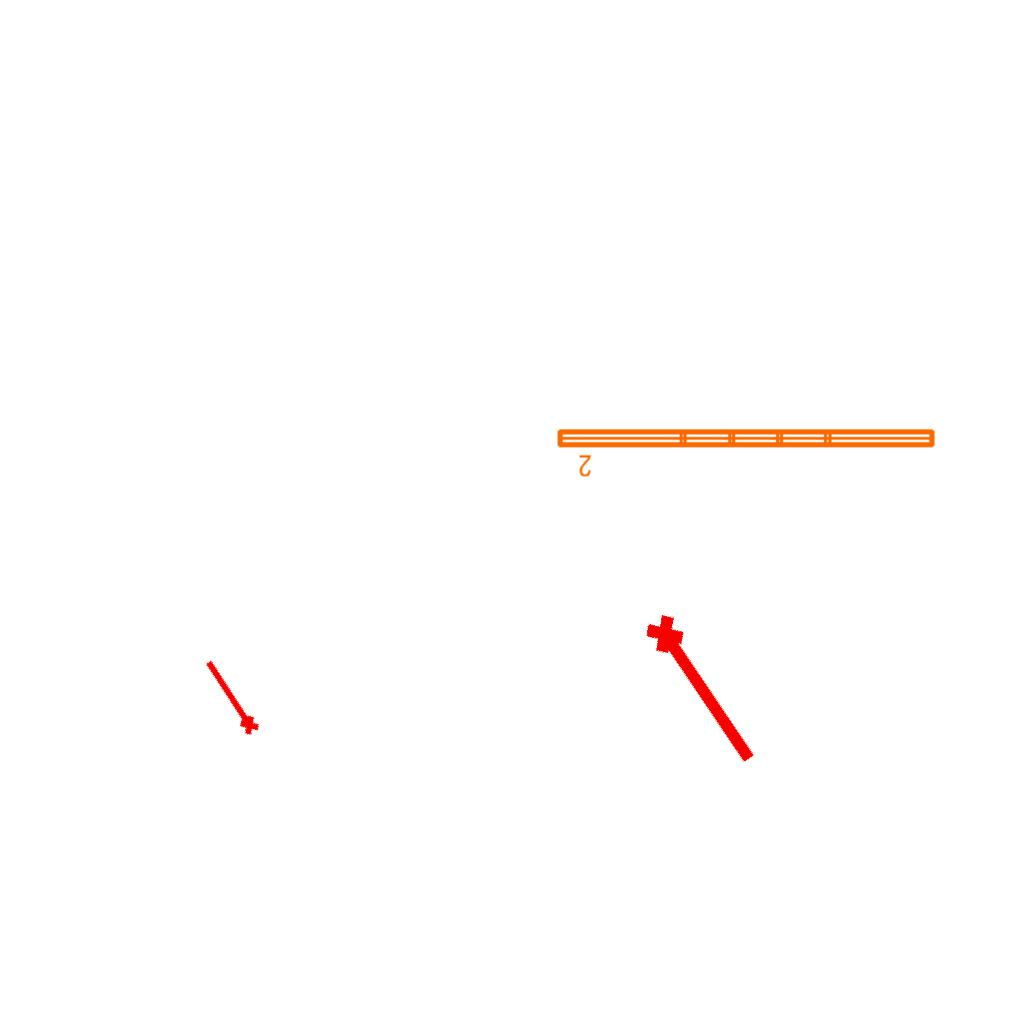ASR_Ansaugoeffnung: (636, 603, 774, 775), (196, 654, 264, 741)
Ambulanz_Pendelleuchte_LED: (553, 423, 940, 479)
